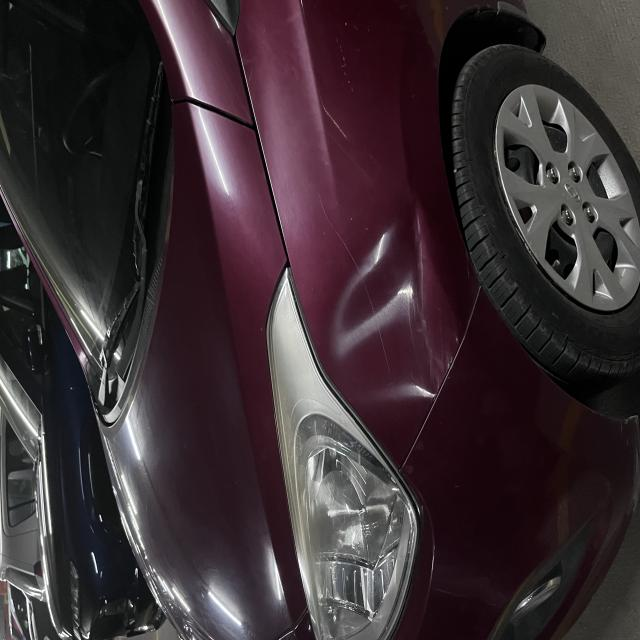scratch: (189, 424, 428, 526), (190, 542, 332, 593)
